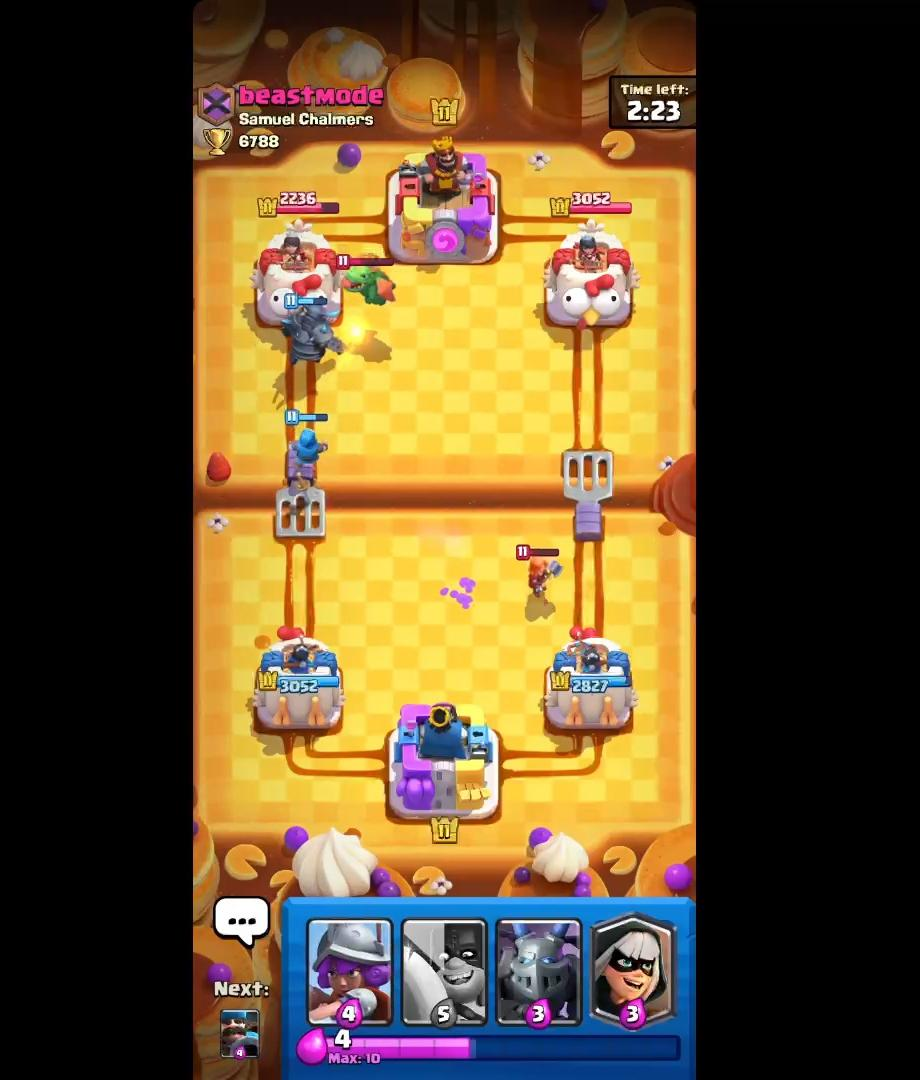Baby Dragon: (332, 250, 400, 313)
Valkyrie: (519, 540, 569, 603)
